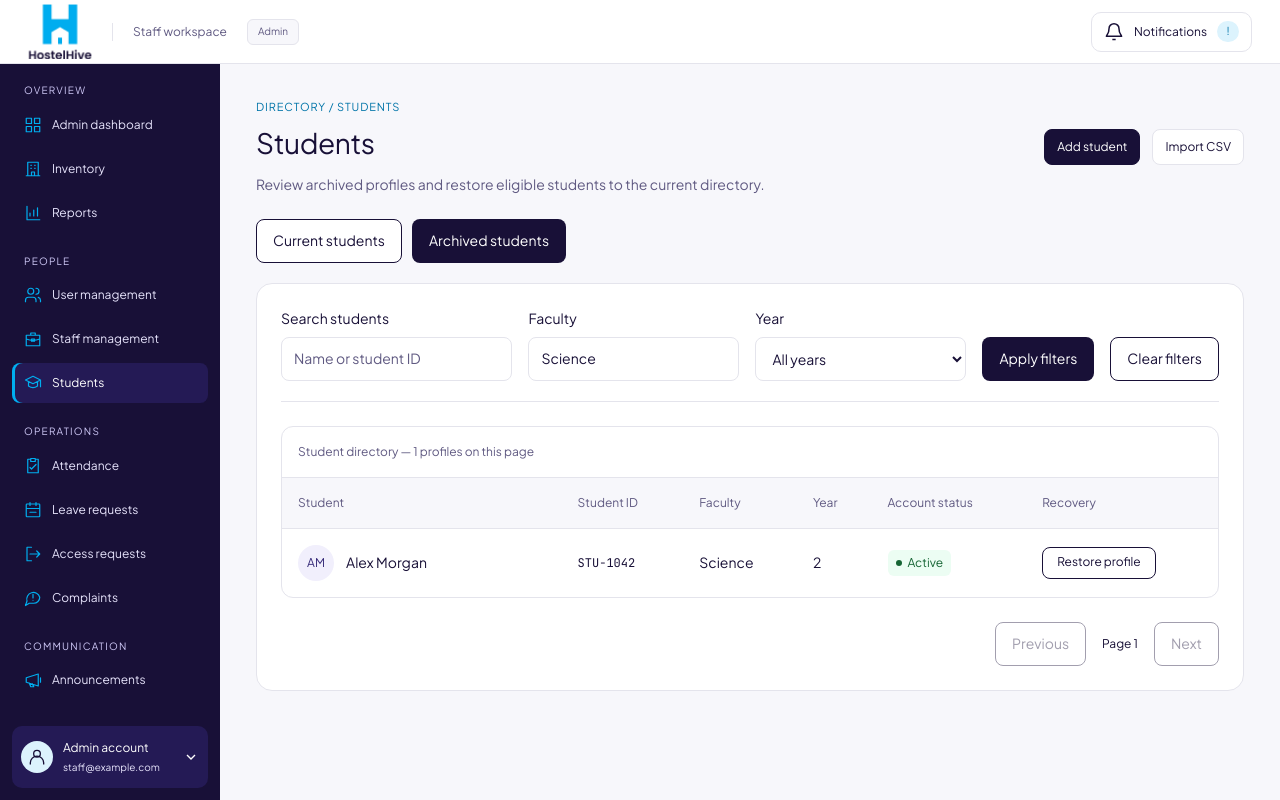
Test: archived student restoration › shows assigned accommodation after confirmed restoration
The width and height of the screenshot is (1280, 800).
Click the button with aria-label "Restore Alex Morgan": coordinates (1099, 563) 1042,547 -> 1156,579
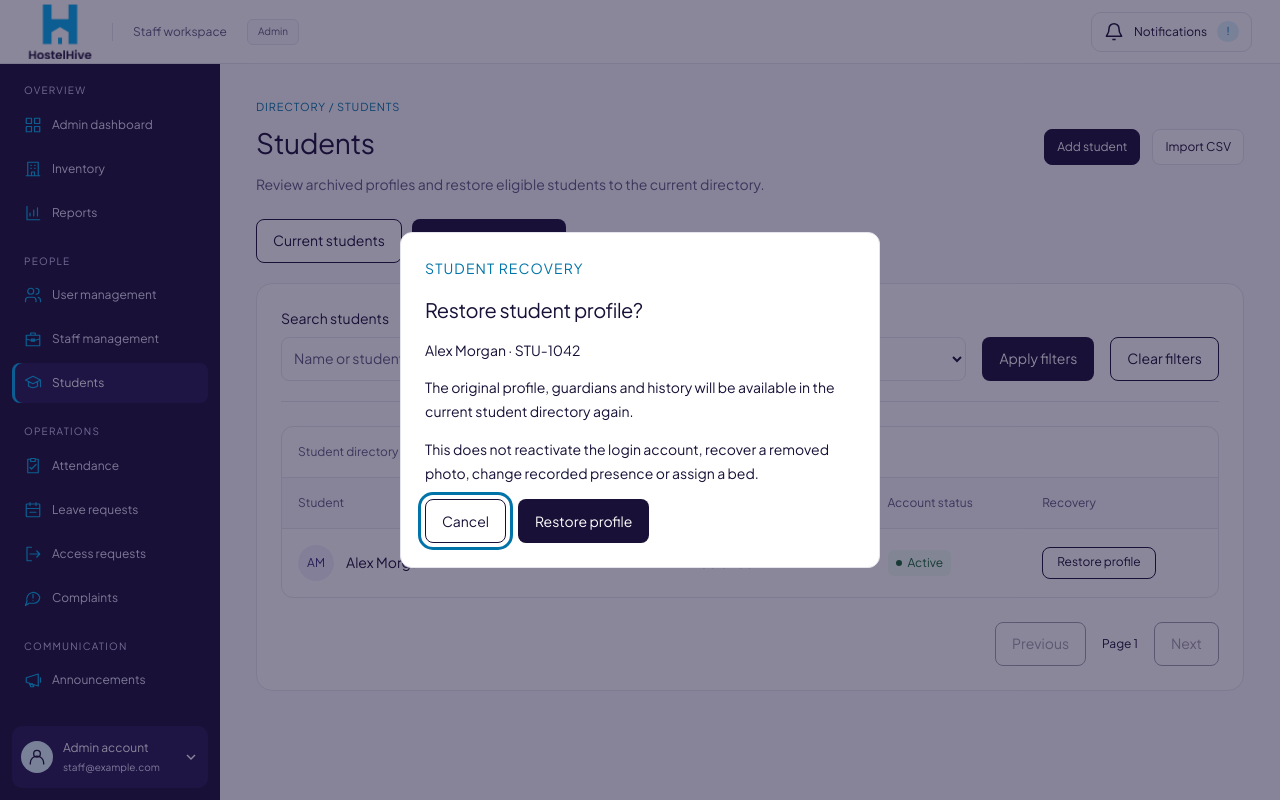
Click the button "Restore profile": coordinates (584, 522) 518,500 -> 649,544
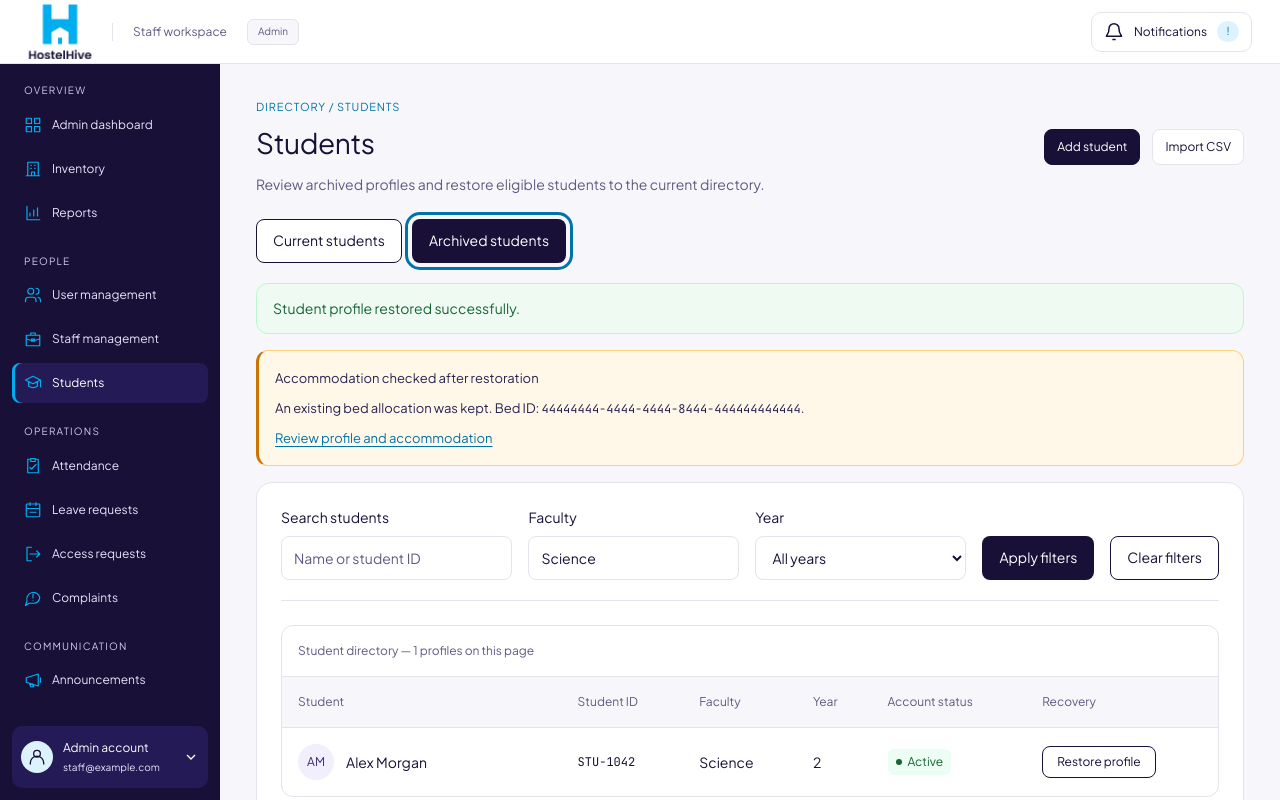
Now the text "Student profile restored successfully." is shown, box 256,283 -> 1244,334
Now the text "44444444-4444-4444-8444-444444444444" is shown, box 542,401 -> 801,417
